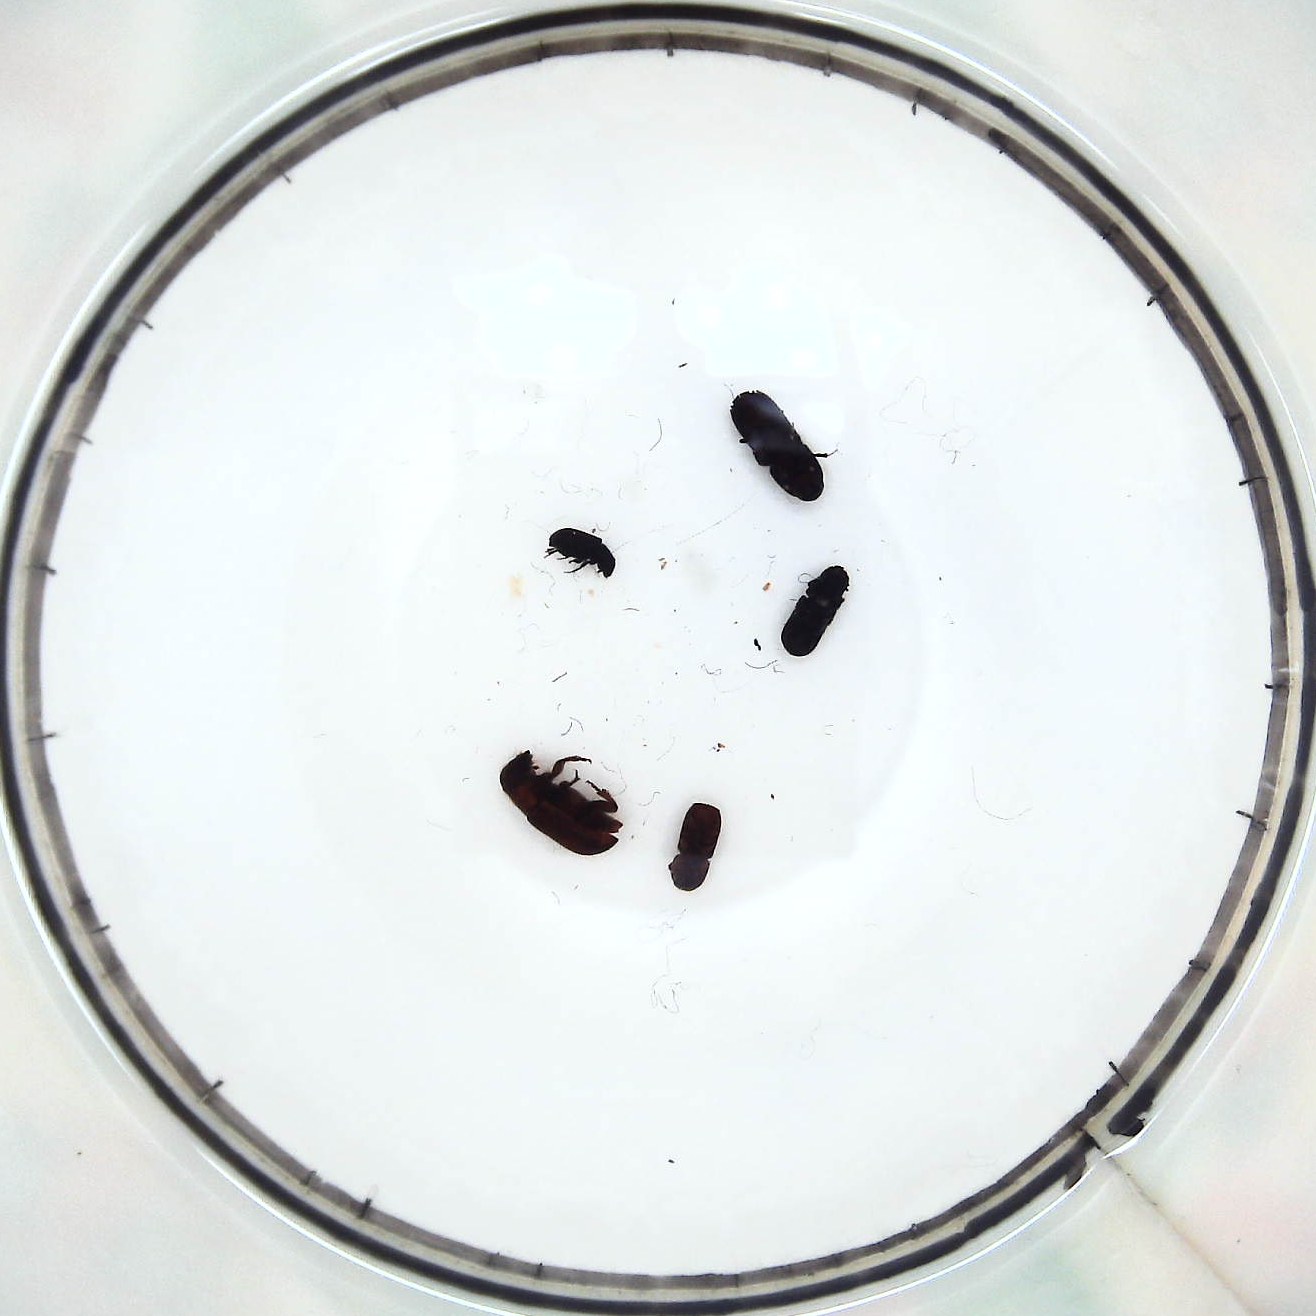Boerner: (725, 384, 832, 509)
Leconte: (495, 750, 631, 862)
Linnaeus: (672, 800, 719, 894)
armandi: (779, 564, 846, 659)
coleoptera: (546, 525, 619, 580)
